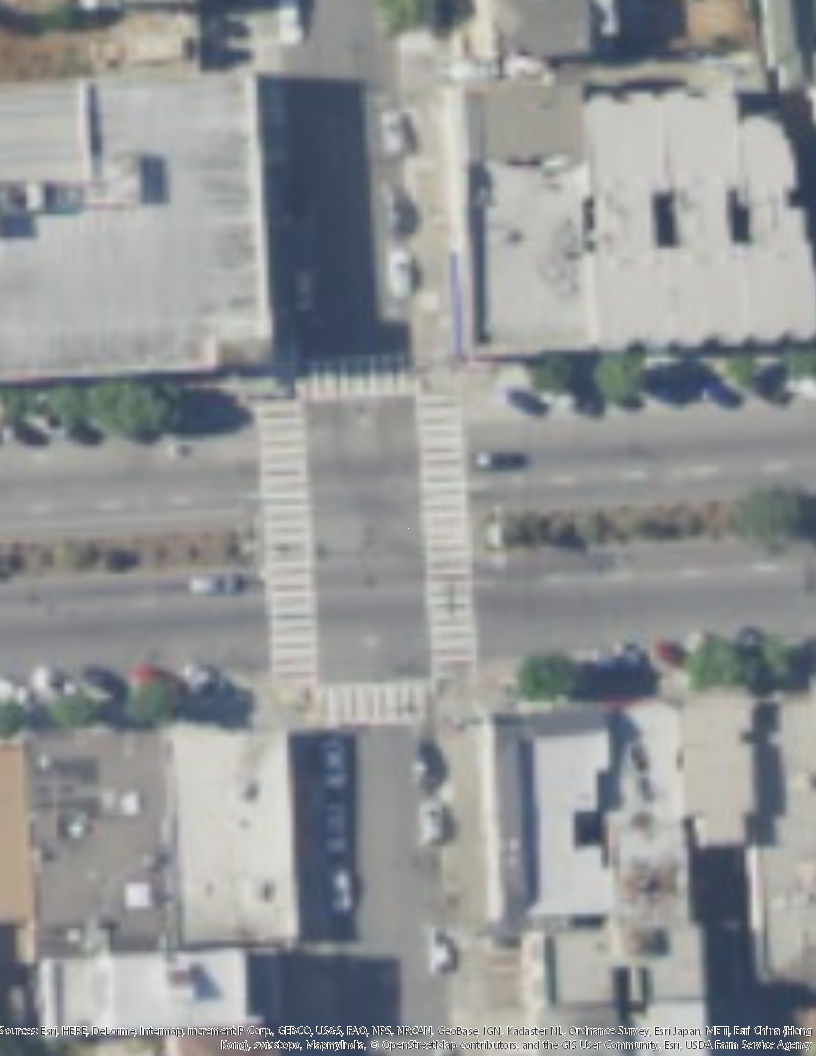zebracross: (254, 399, 323, 679), (413, 390, 481, 660), (293, 351, 423, 402), (315, 679, 430, 724)
